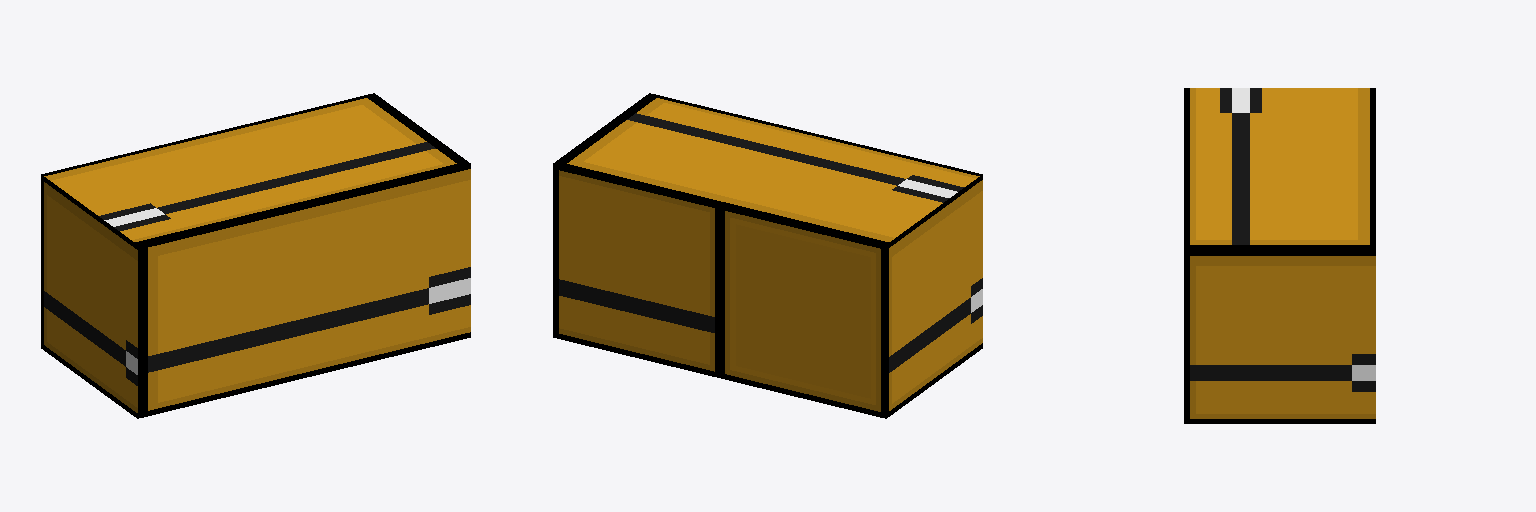
The picture shows the model from 3 angles: view 1: azimuth 30°, elevation 25°; view 2: azimuth 150°, elevation 25°; view 3: azimuth 270°, elevation 25°; orthographic projection.
Parts seen in each view (by area): view 1: Cube; view 2: Cube; view 3: Cube.
Part boxes in pixels (left/top/right/bottom): Cube: left=41, top=93, right=470, bottom=418; Cube: left=553, top=93, right=982, bottom=418; Cube: left=1184, top=88, right=1375, bottom=423.
Bounding box in the file's own units: 4 × 2 × 2.
Materials: 1 (1 with a texture image).